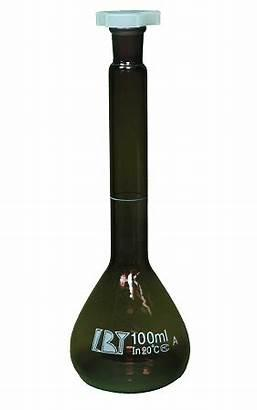Volumetric flask: (37, 0, 206, 391)
